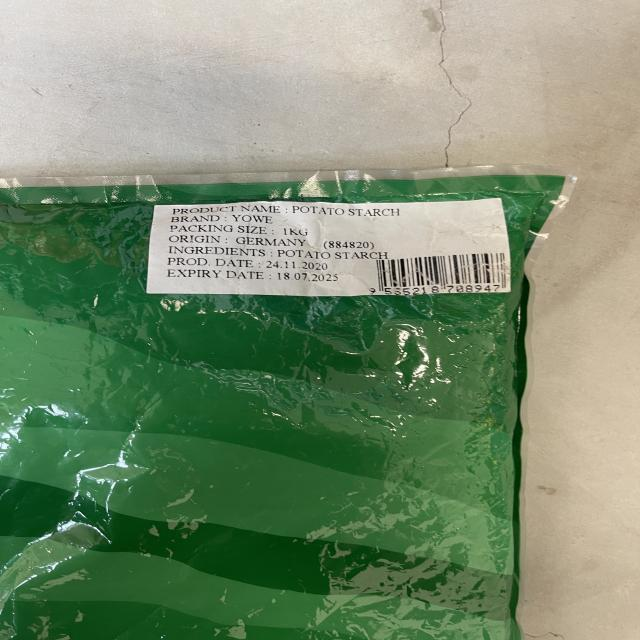object_name: (4, 175, 517, 640)
